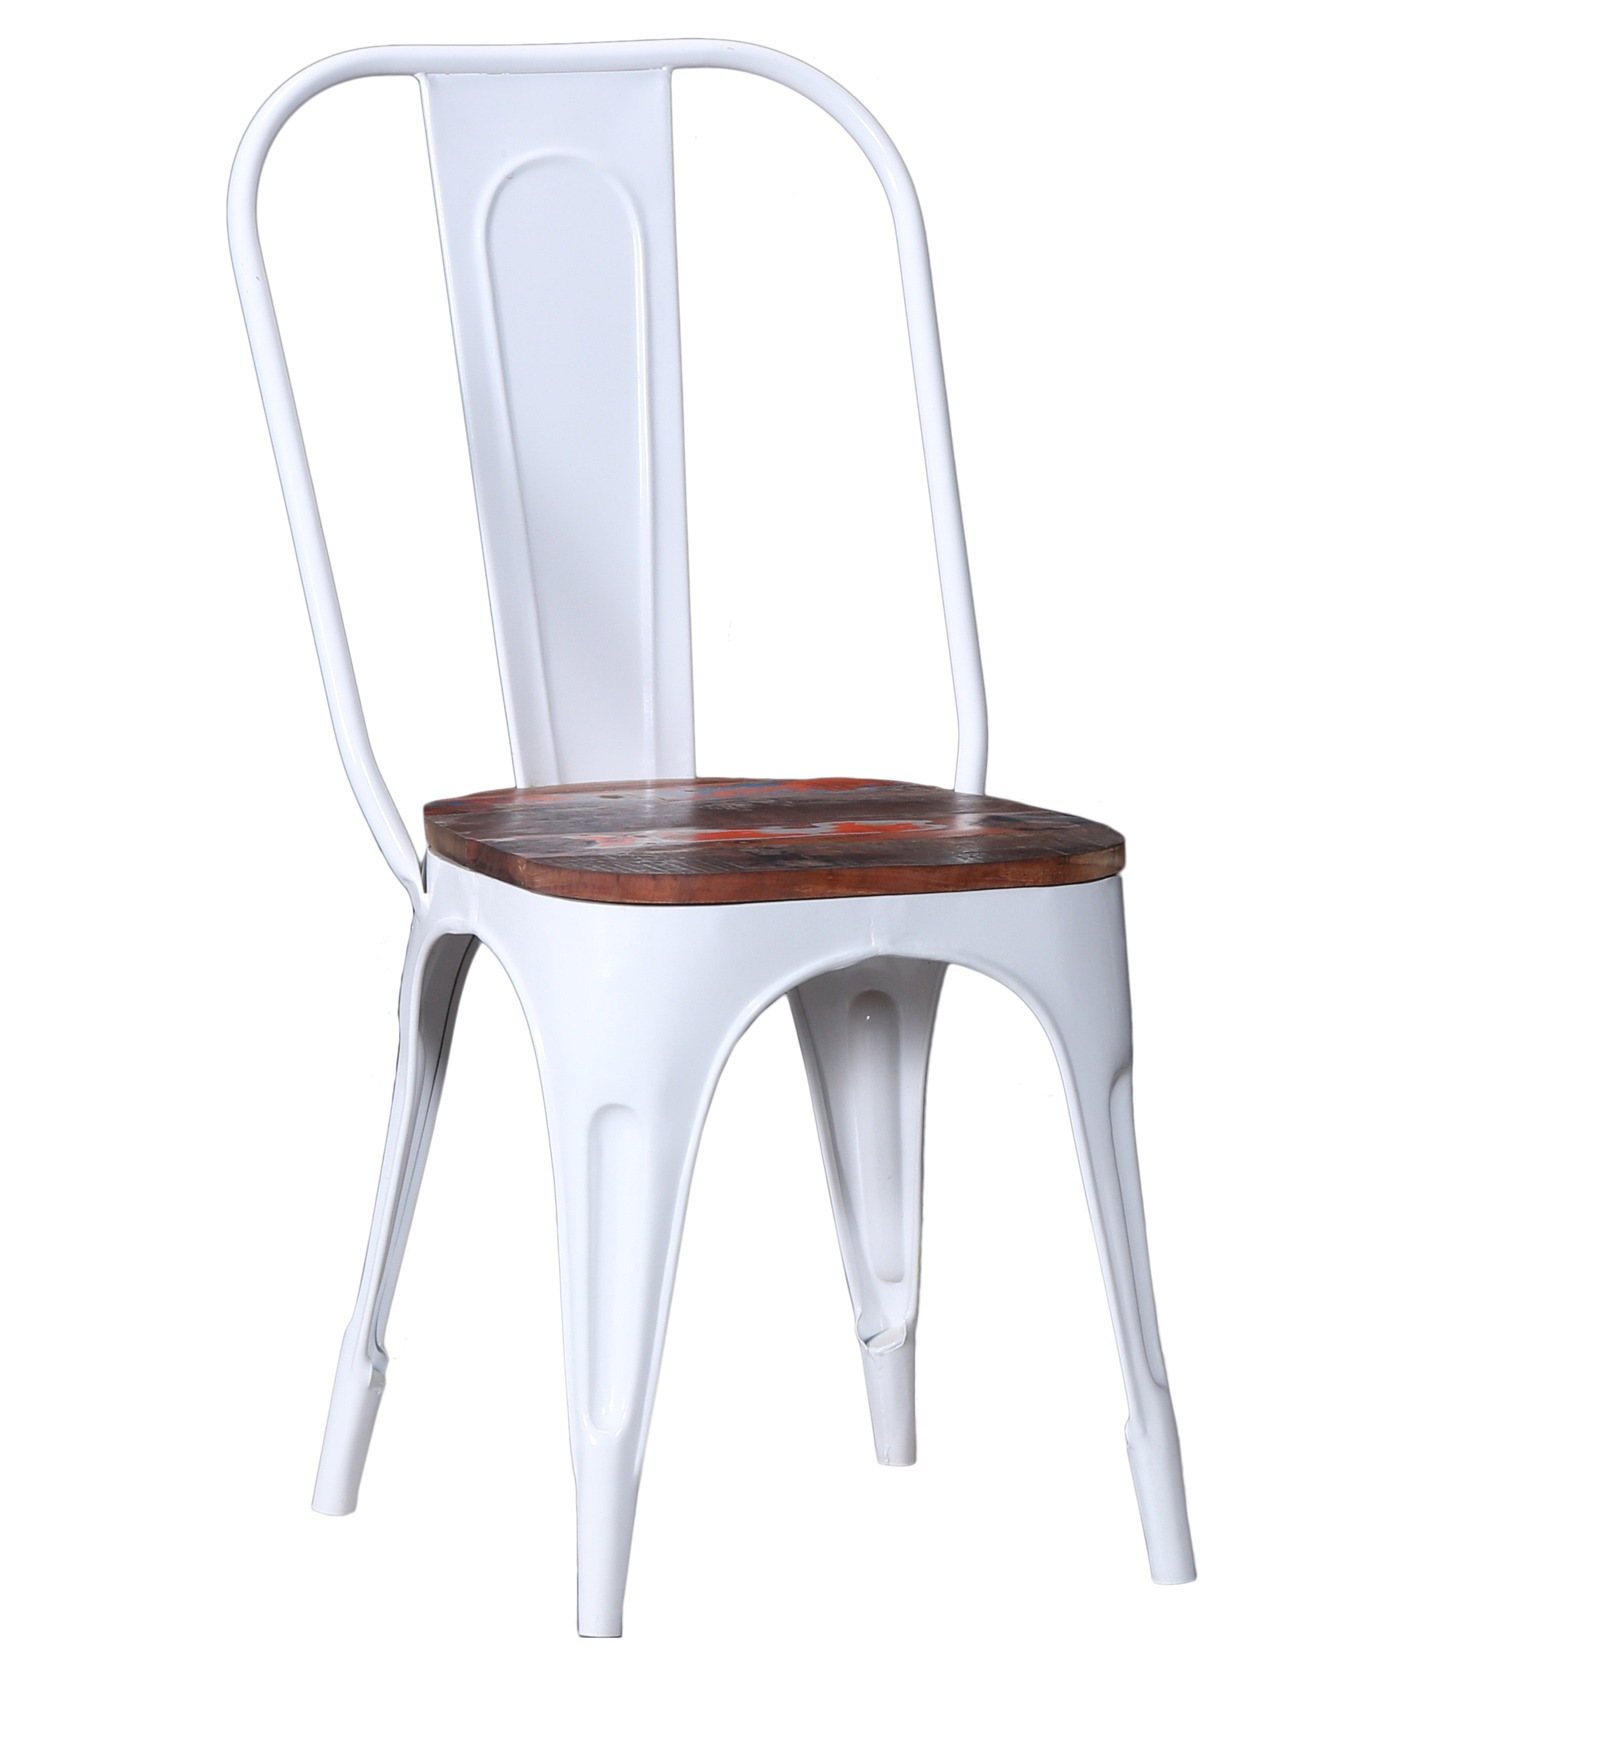Kumtor Metal Chair in Distress White Color with Wooden Seat by Bohemiana: (185, 23, 1280, 1620)
